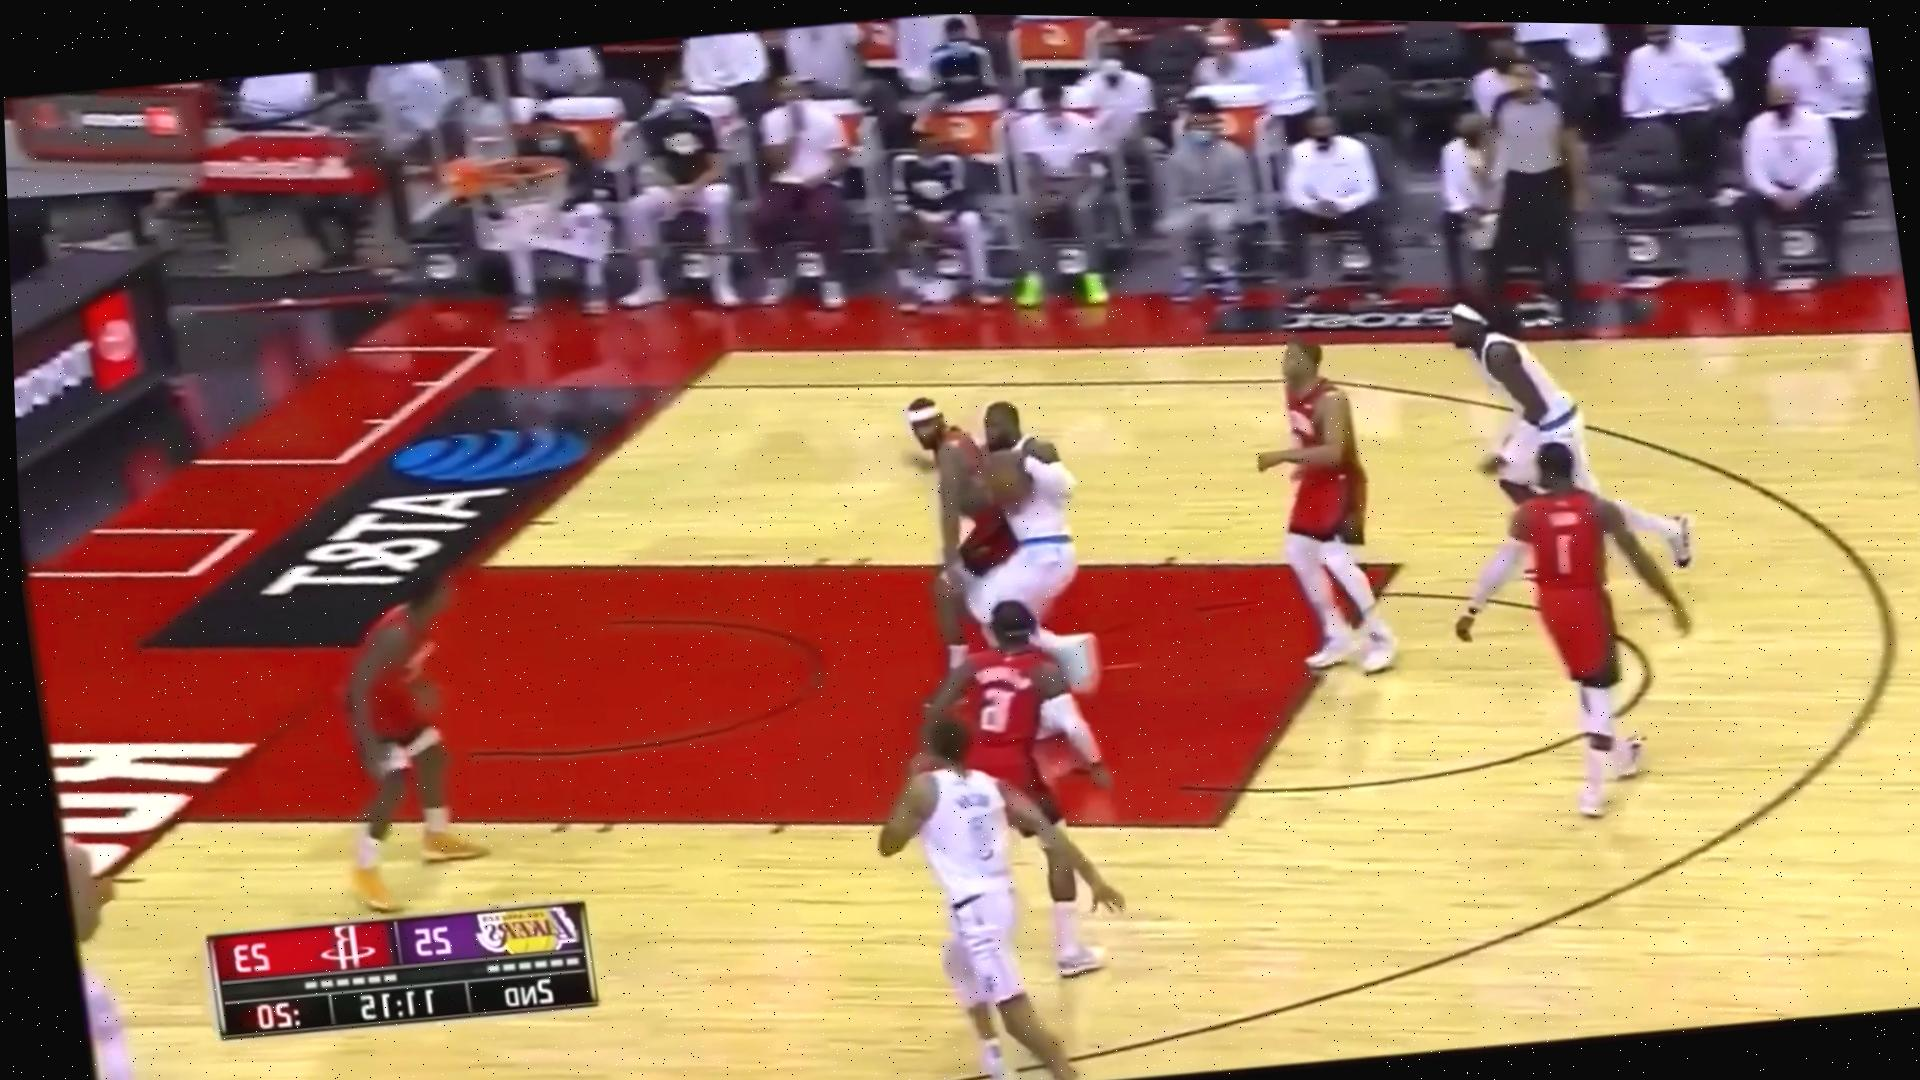foul: (868, 355, 1114, 719)
